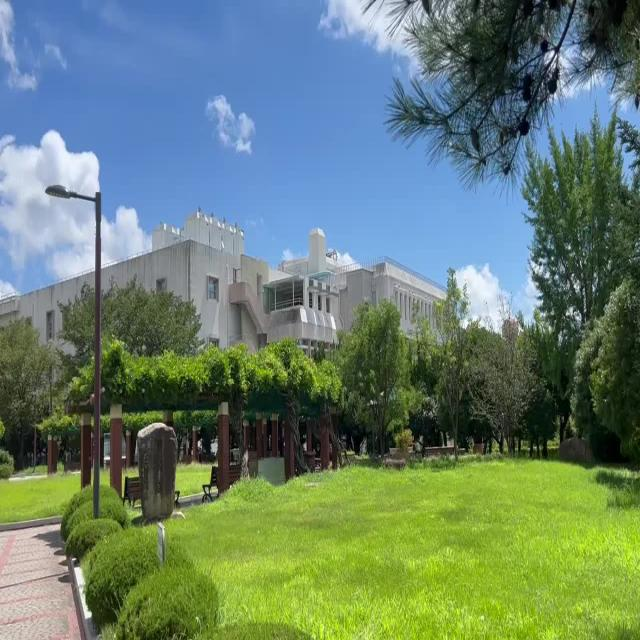building: (170, 206, 360, 350)
